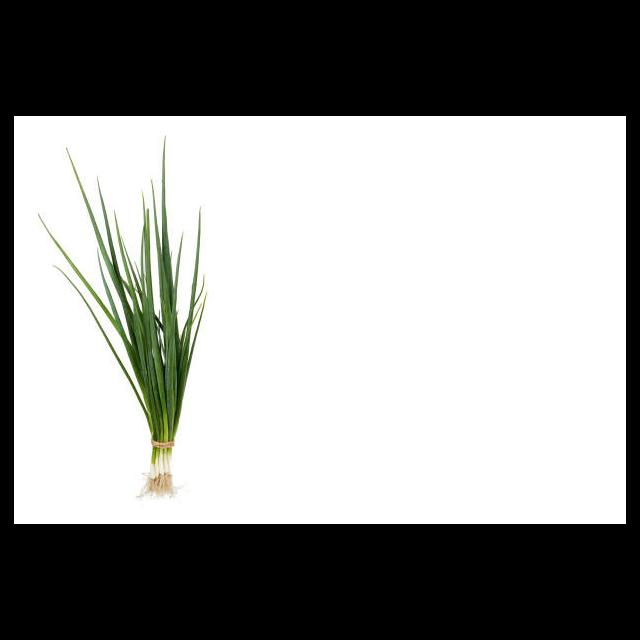green_onion: (76, 134, 231, 489)
